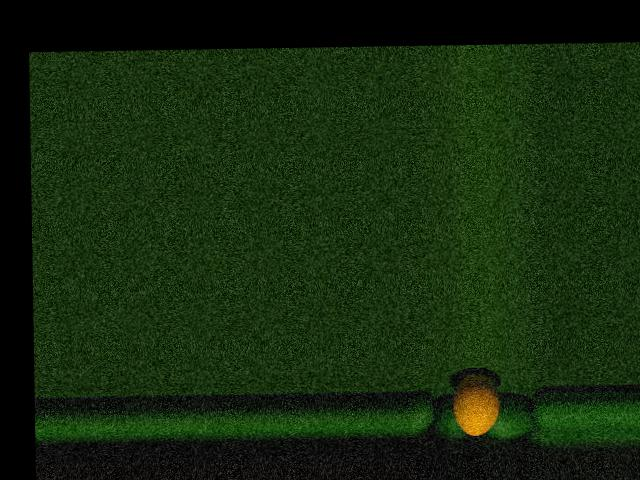egg: (452, 372, 501, 435)
